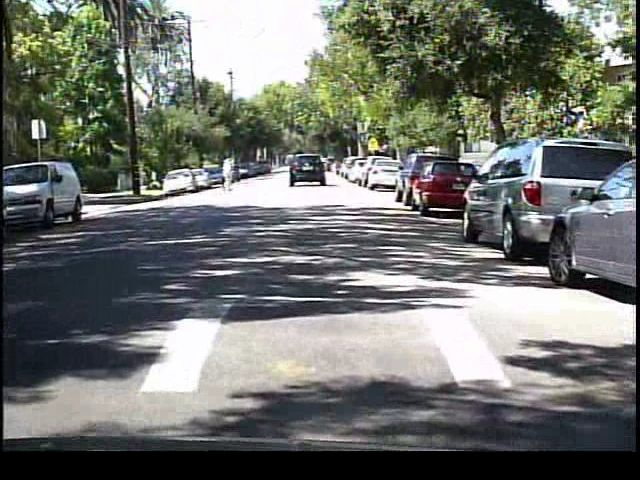person: (218, 152, 239, 194)
